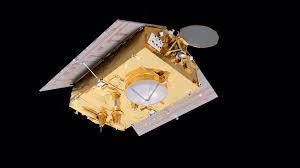antenna: (178, 23, 221, 50)
body: (68, 23, 201, 133)
solar: (36, 18, 169, 95), (130, 59, 220, 139)
